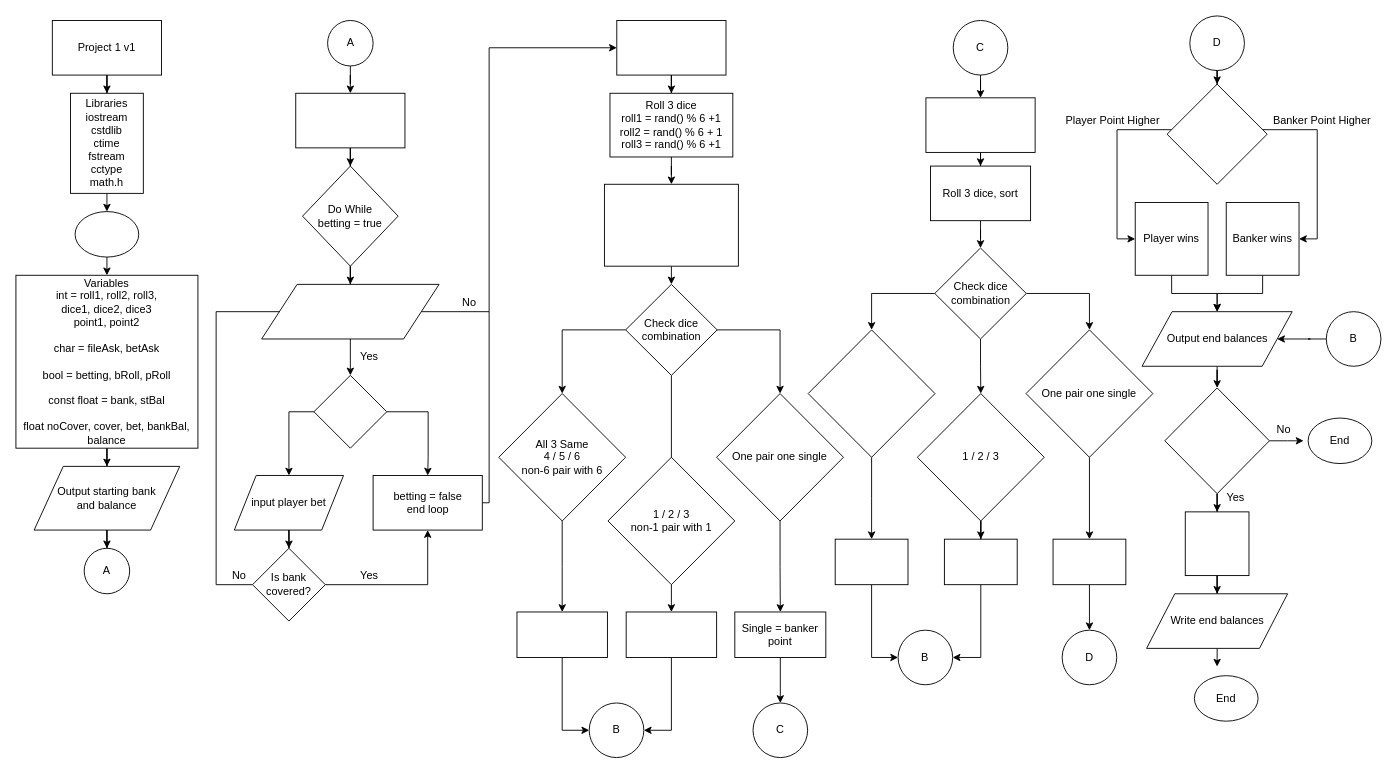
This 1397x774 diagram has some shape labels left out. The centre of each missing label's shape, as x and y in pixels:
"All 3 same 4 / 5 / 6" goes at [871,393].
"Ask if player wants to bet" goes at [350,311].
"Ask if user wants to write to file" goes at [1216,440].
"Ask which sort to use" goes at [671,224].
"Automatic loss" goes at [980,561].
"Automatic Loss, player wins bet" goes at [671,634].
"Automatic win" goes at [871,561].
"Automatic Win, player loses bet" goes at [561,634].
"Begin banker dice roll" goes at [671,47].
"Begin betting phase" goes at [350,120].
"Begin player dice roll" goes at [980,124].
"Compare banker and player point" goes at [1216,133].
"Main" goes at [106,234].
"Open records.txt" goes at [1216,543].
"Single = player point" goes at [1089,561].
"Switch" goes at [350,411].
